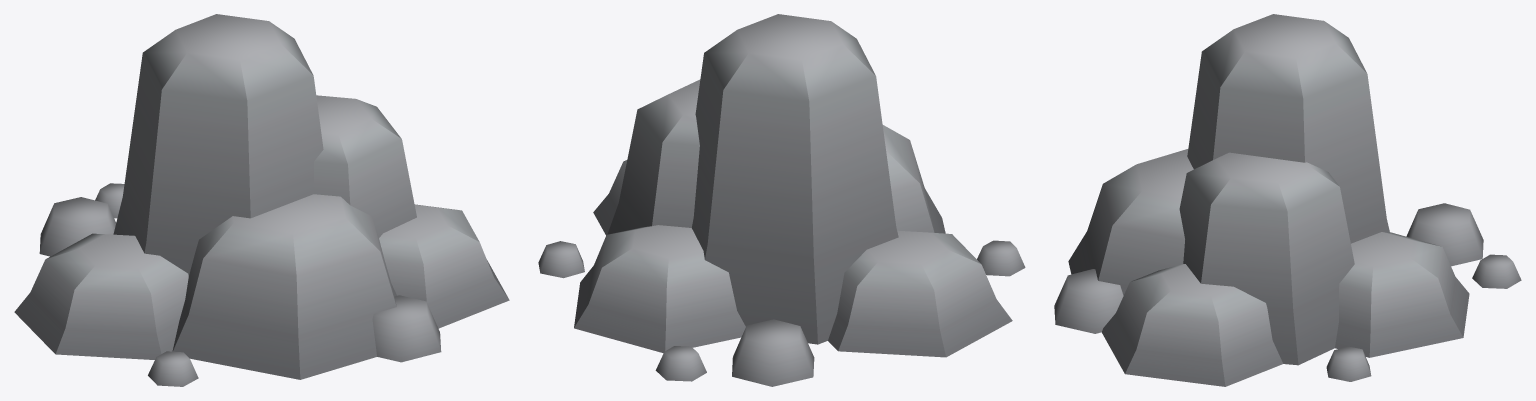
Rendered from rocks-tall.glb.
The picture shows the model from 3 angles, left to right: view 1: azimuth 30°, elevation 25°; view 2: azimuth 150°, elevation 25°; view 3: azimuth 270°, elevation 25°; orthographic projection. The views are drawn at different scales.
Visible parts, largest first — view 1: rocks-tall; view 2: rocks-tall; view 3: rocks-tall.
Part boxes in pixels (box(x1,y1,x2,y2)): rocks-tall: box(14, 14, 509, 386); rocks-tall: box(538, 14, 1025, 386); rocks-tall: box(1054, 14, 1521, 386).
Bounding box in the file's own units: 1.55 × 0.8814 × 1.53.
Materials: 1 (1 with a texture image).
